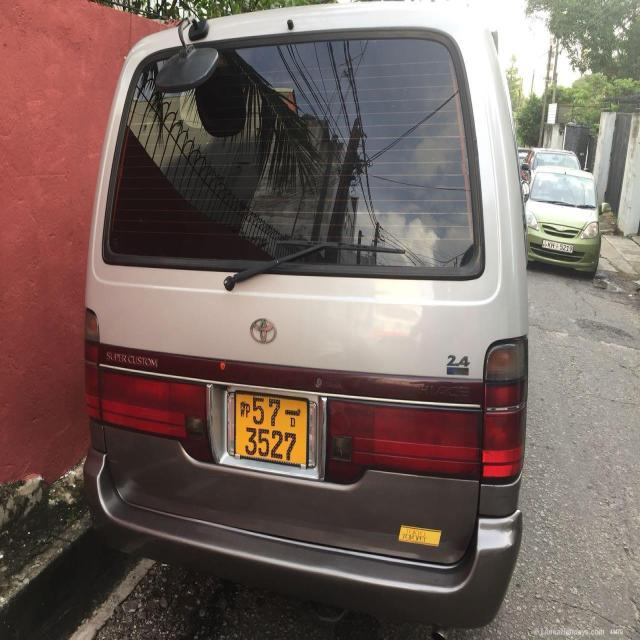license-plate: (236, 390, 310, 464)
